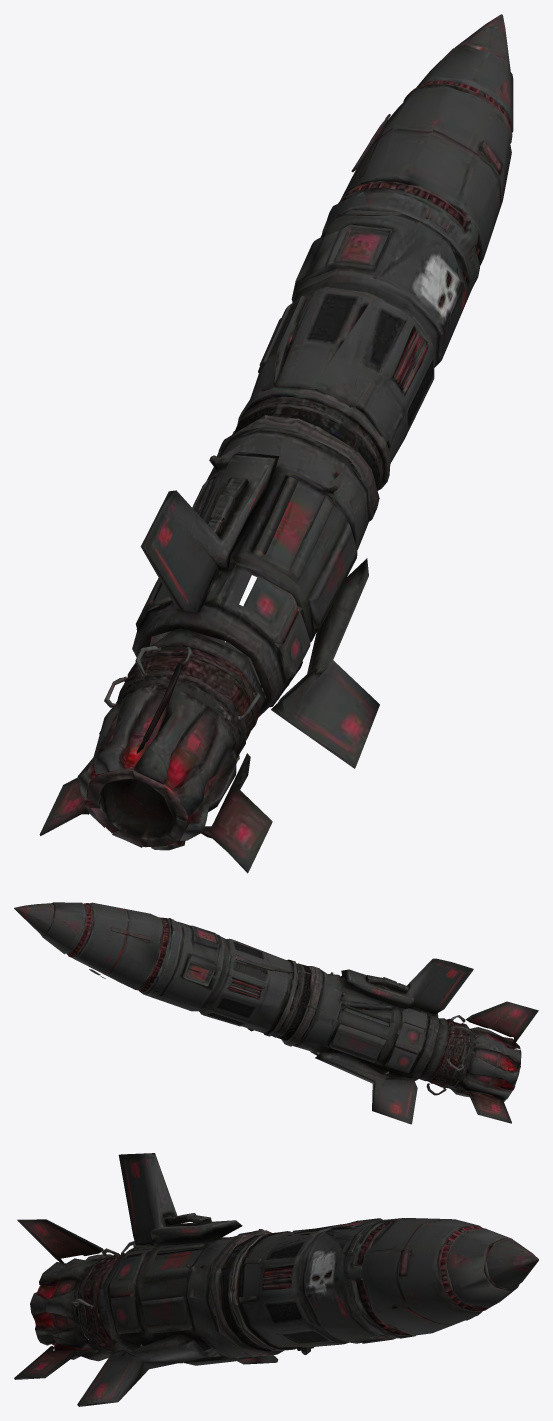
Rendered from death_star.glb.
The picture shows the model from 3 angles, top to bottom: view 1: azimuth 30°, elevation 25°; view 2: azimuth 150°, elevation 25°; view 3: azimuth 270°, elevation 25°; orthographic projection. The views are drawn at different scales.
Parts seen in each view (by area): view 1: a67091af-92d4-4ce9-b840-c3ded6db0d18; view 2: a67091af-92d4-4ce9-b840-c3ded6db0d18; view 3: a67091af-92d4-4ce9-b840-c3ded6db0d18.
Part boxes in pixels (box(x1,y1,x2,y2)): a67091af-92d4-4ce9-b840-c3ded6db0d18: box(39, 14, 513, 873); a67091af-92d4-4ce9-b840-c3ded6db0d18: box(14, 902, 538, 1124); a67091af-92d4-4ce9-b840-c3ded6db0d18: box(14, 1153, 538, 1406).
Size of the model in its own units: 0.9995 by 0.5972 by 0.8325.
Materials: 1 (1 with a texture image).
